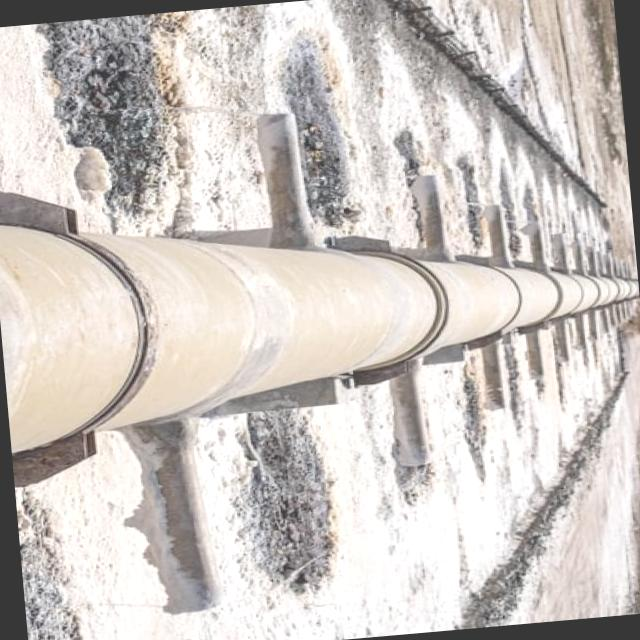gas: (0, 225, 639, 453)
